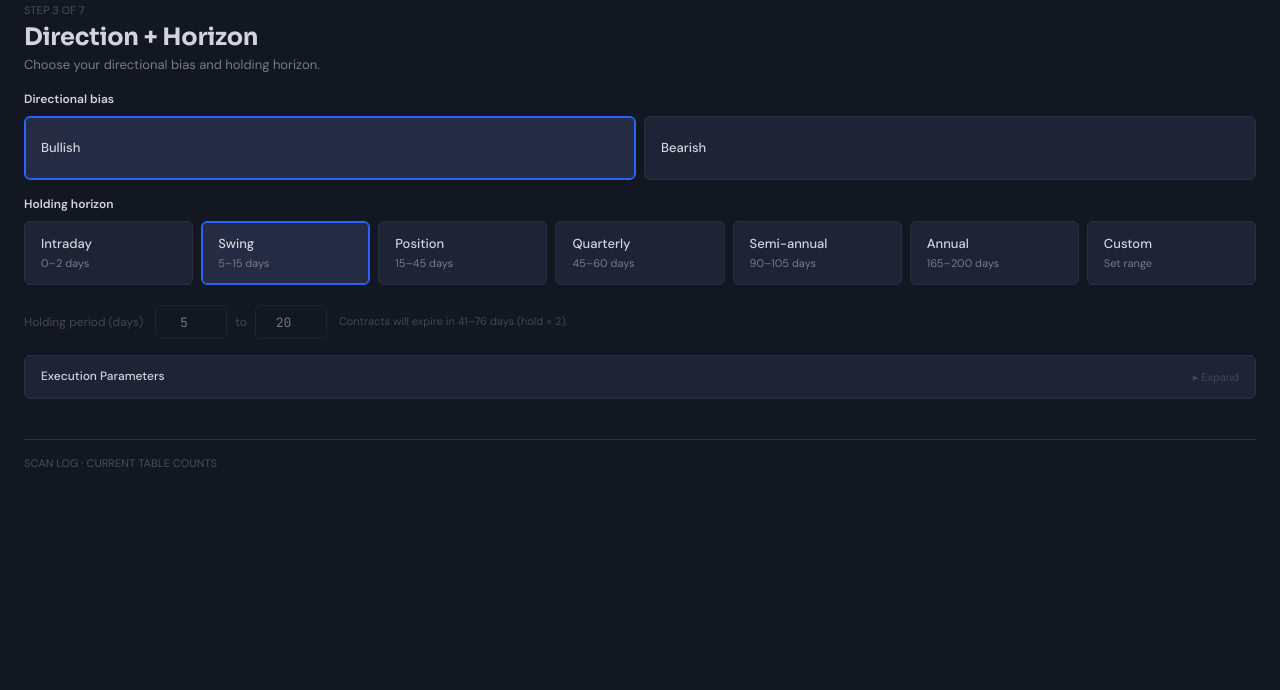
Test: Step 3 — Stop percentage unit scaling and bounds (Finding C7, #385) › renders default stop percentages in whole percent (3, not 0.03)
The image size is (1280, 690).
Note: Open Execution Parameters panel
Click the text "Execution Parameters". click: [103, 377]
box: [41, 368, 165, 386]
(page scrolled)
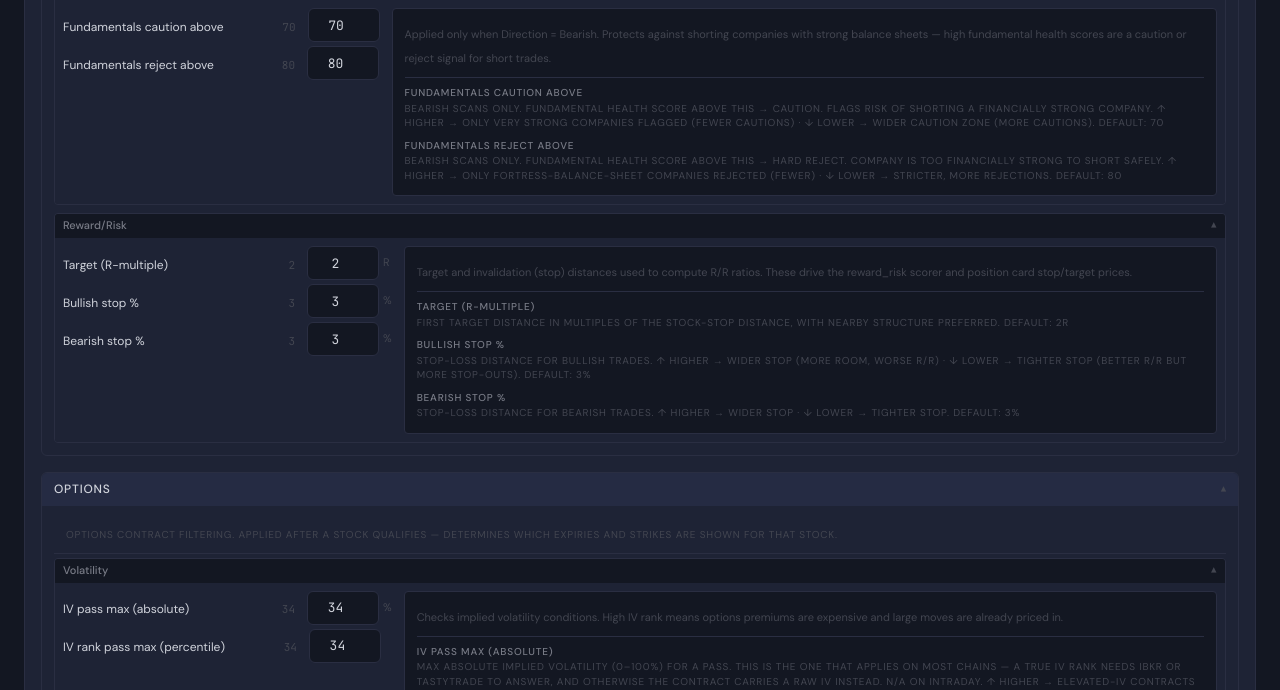
Expected: the element showing "Bullish stop % 3 %" is shown, [63, 284, 392, 318]
Expected: the number field named "Bullish stop %" holds "3", [307, 284, 379, 318]
Expected: the element showing "Bearish stop % 3 %" is shown, [63, 322, 392, 356]
